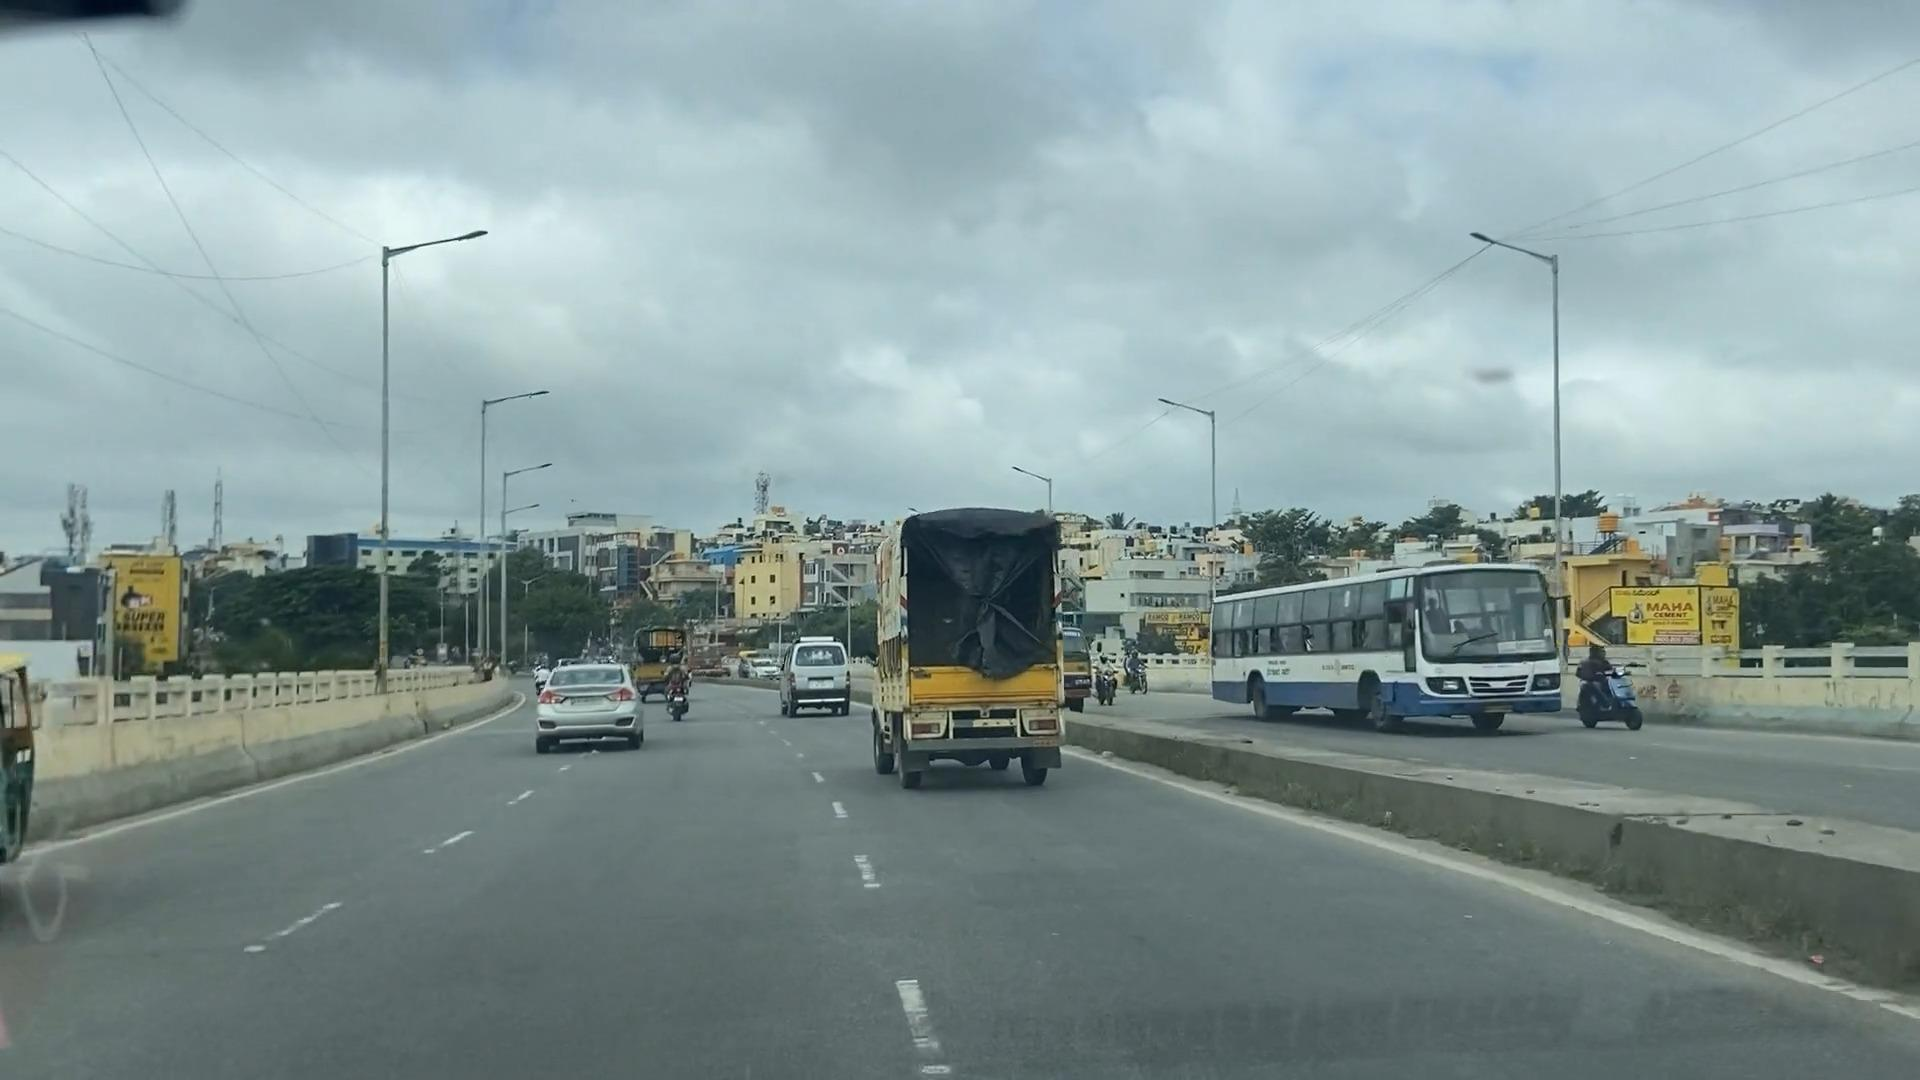HMV: (1195, 566, 1594, 745), (857, 506, 1102, 791)
